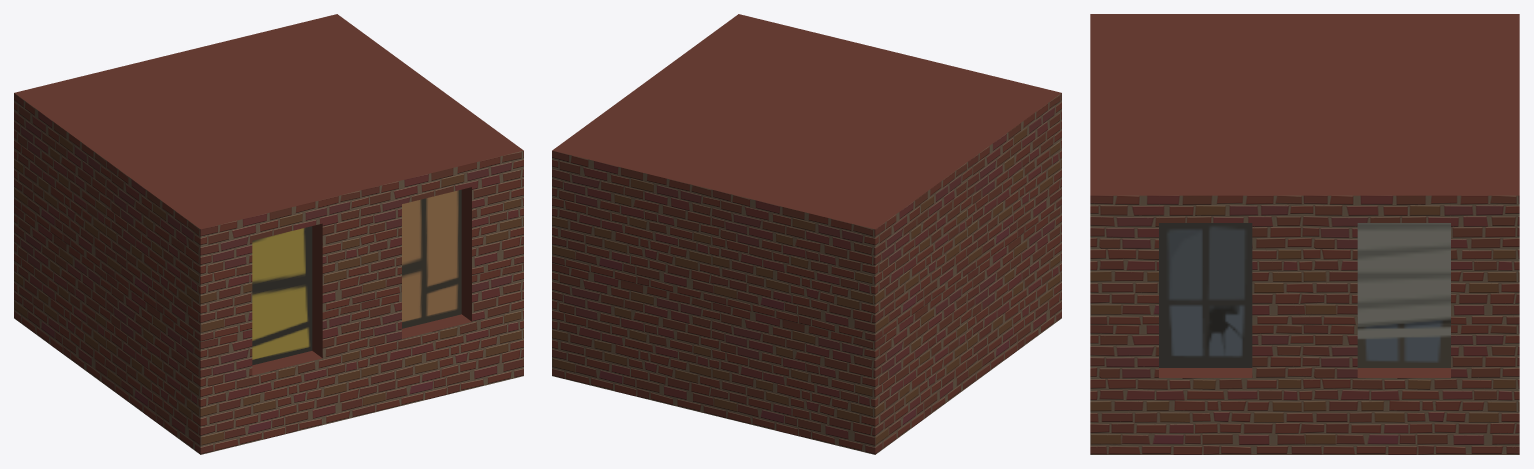
Rendered from Bock_C3.fbx.
3 views of the same model, side by side, from view 1: azimuth 30°, elevation 25°; view 2: azimuth 150°, elevation 25°; view 3: azimuth 270°, elevation 25° (orthographic). The views are drawn at different scales.
Visible parts, largest first — view 1: Bock_C3; view 2: Bock_C3; view 3: Bock_C3.
Boxes of the visible parts, x1,y1,x2,y2 form: Bock_C3: (14,14,523,454); Bock_C3: (552,14,1061,454); Bock_C3: (1090,14,1519,454).
Size of the model in its own units: 600 by 400 by 600.
